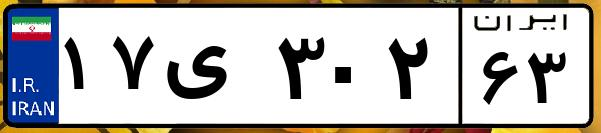0: (330, 28, 385, 110)
1: (57, 26, 110, 100)
2: (385, 28, 445, 110)
3: (270, 28, 330, 110), (525, 38, 570, 115)
6: (475, 38, 525, 113)
7: (110, 28, 158, 98)
ی: (158, 20, 270, 120)
